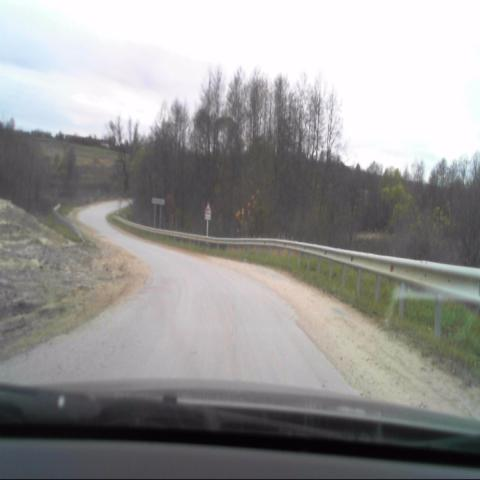1_12: (205, 201, 211, 213)
